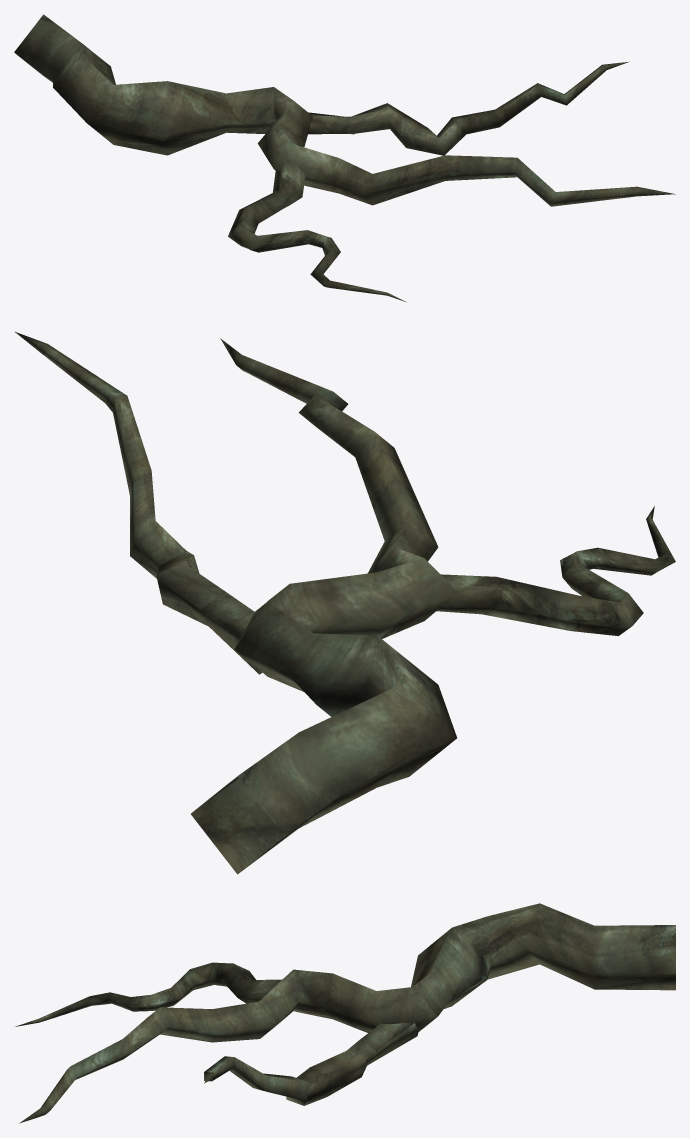
The model's file is Roots5.fbx.
3 views of the same model, one above another, from view 1: azimuth 30°, elevation 25°; view 2: azimuth 150°, elevation 25°; view 3: azimuth 270°, elevation 25° (orthographic). The views are drawn at different scales.
Visible parts, largest first — view 1: polySurface3561; view 2: polySurface3561; view 3: polySurface3561.
Boxes of the visible parts, x1,y1,x2,y2 form: polySurface3561: (14,14,675,302); polySurface3561: (14,331,675,874); polySurface3561: (15,903,675,1123).
Size of the model in its own units: 3.92 by 0.9126 by 5.17.
